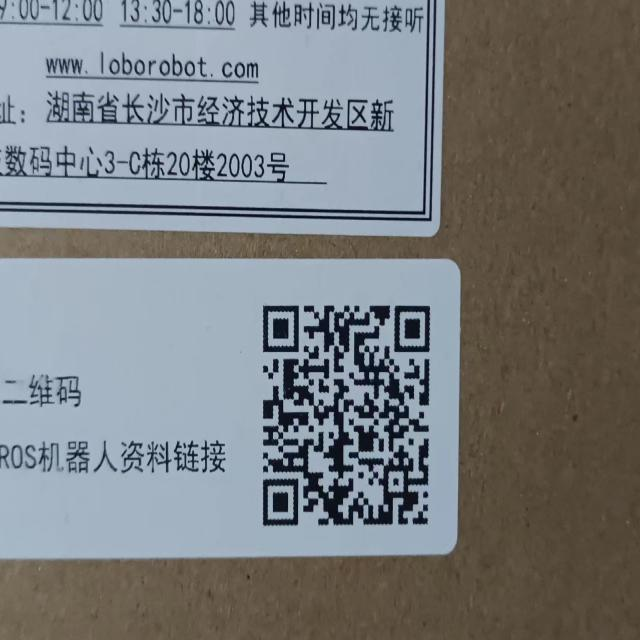qr_code: (263, 305, 429, 525)
